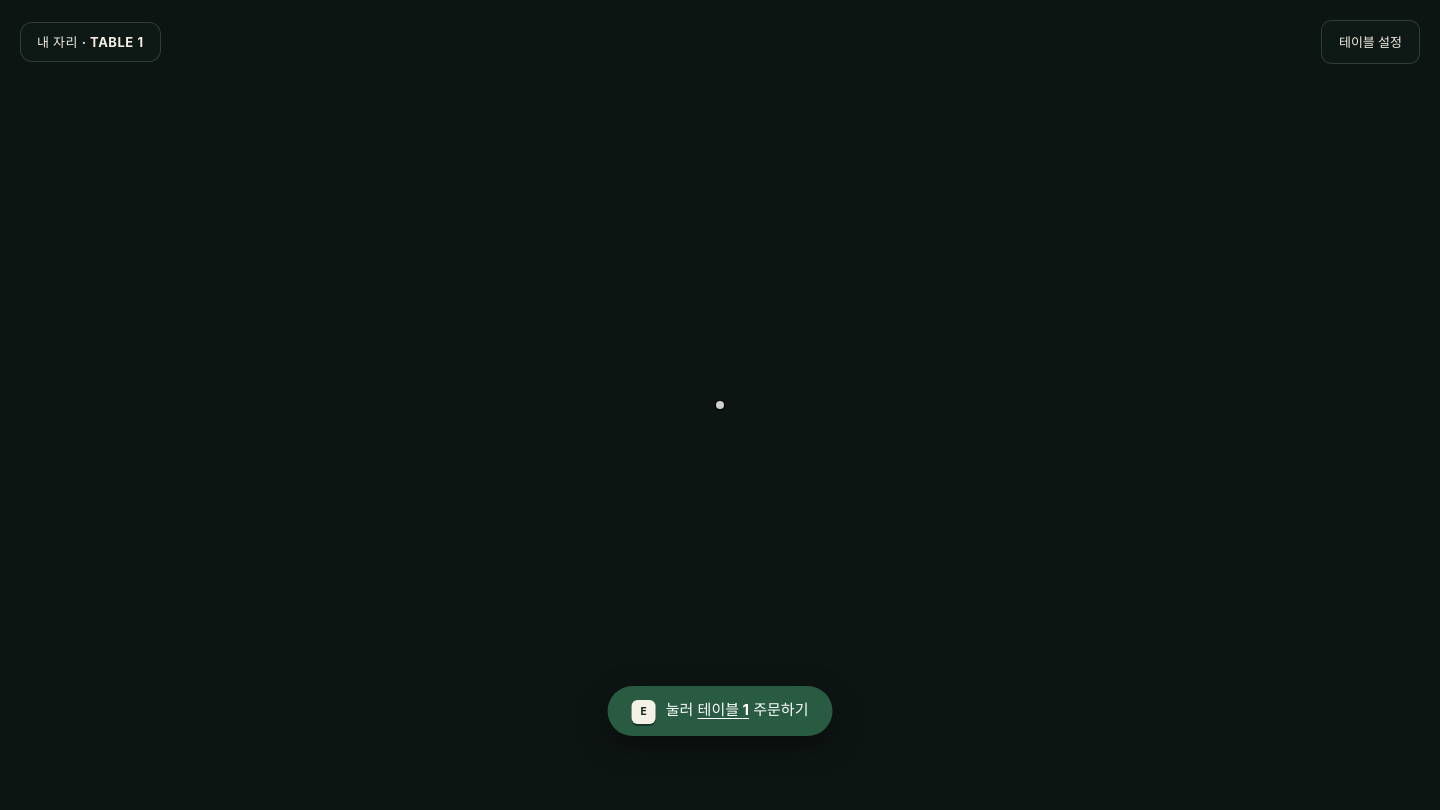
refreshes authentication once for GET
The image size is (1440, 810).
Press KeyE
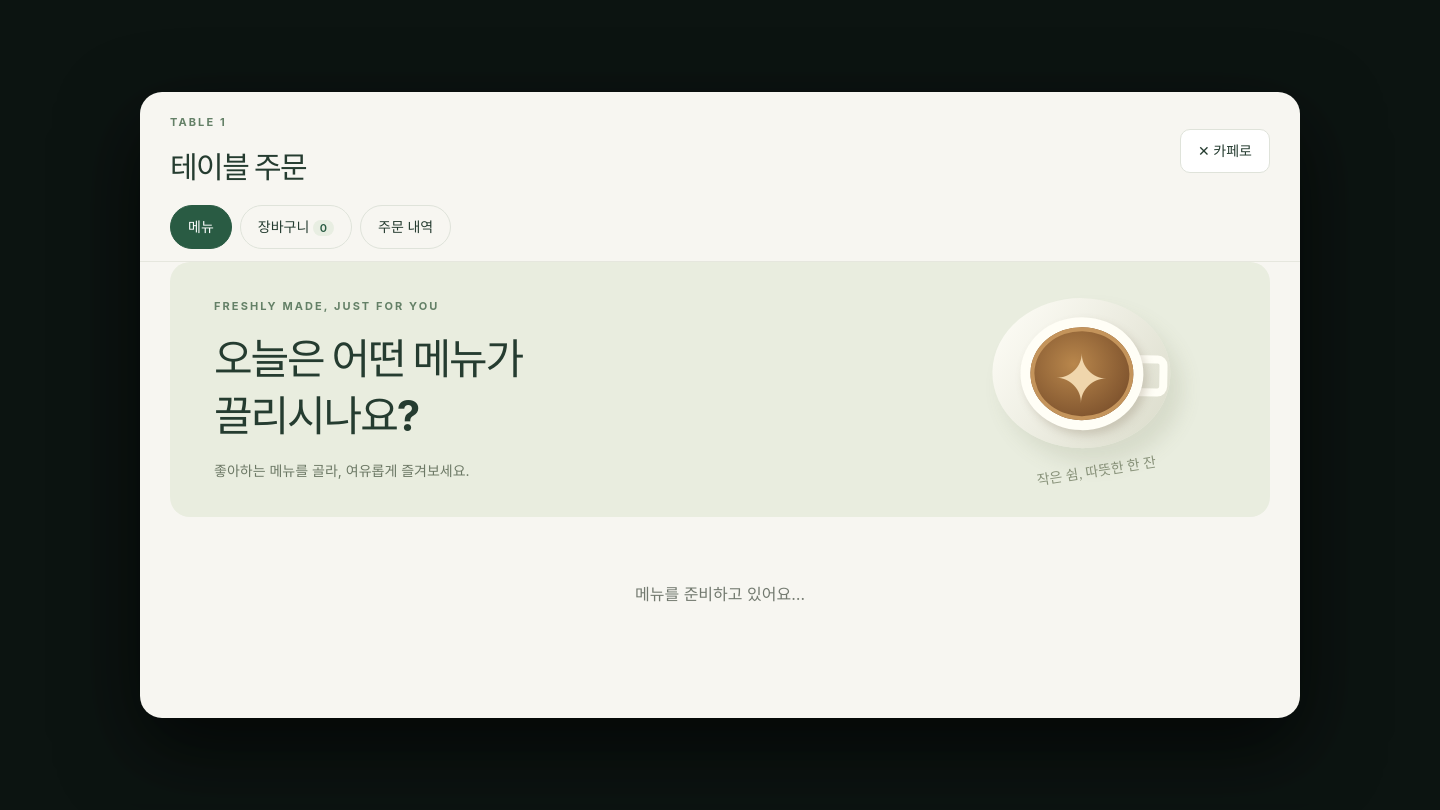
Click the button with test id "tab-orders" at [406, 227], box [360,205,451,249]
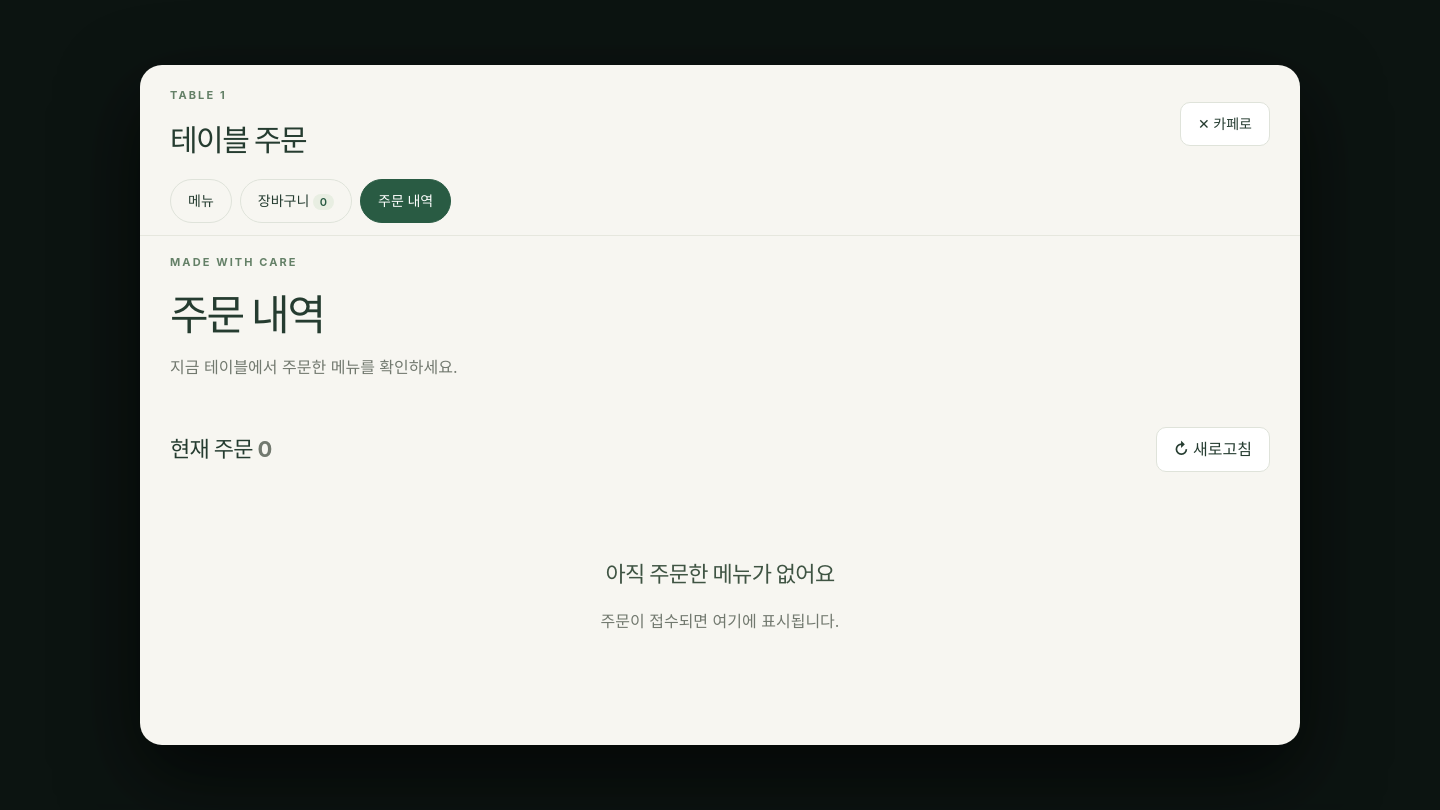
Now the heading "아직 주문한 메뉴가 없어요" is shown, box [606,561,834,587]
